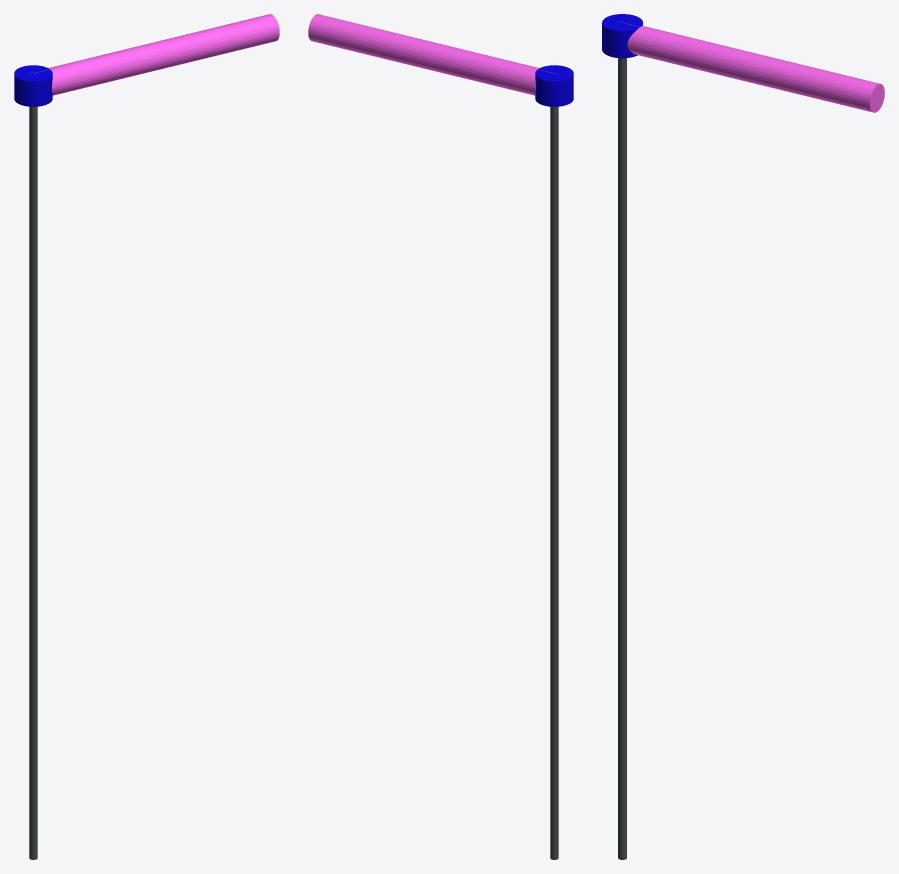
File: roll2.fbx
3 renders of one model, left to right at view 1: azimuth 30°, elevation 25°; view 2: azimuth 150°, elevation 25°; view 3: azimuth 330°, elevation 25°, orthographic. The views are drawn at different scales.
Visible parts, largest first — view 1: 円柱.002, 円柱, 円柱.001; view 2: 円柱.002, 円柱, 円柱.001; view 3: 円柱, 円柱.002, 円柱.001.
Boxes of the visible parts, left/top/right/bottom form: 円柱.002: left=29, top=106, right=37, bottom=859; 円柱: left=30, top=14, right=279, bottom=95; 円柱.001: left=14, top=65, right=52, bottom=106; 円柱.002: left=550, top=106, right=558, bottom=859; 円柱: left=308, top=14, right=557, bottom=95; 円柱.001: left=535, top=65, right=573, bottom=106; 円柱: left=618, top=21, right=884, bottom=112; 円柱.002: left=618, top=58, right=626, bottom=859; 円柱.001: left=602, top=14, right=642, bottom=58.
Bounding box in the file's own units: 3614 × 10584 × 472.
